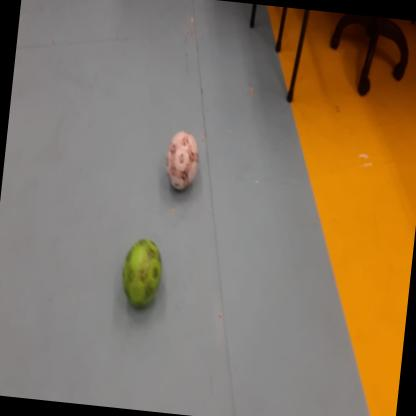ball: (119, 236, 164, 310), (162, 129, 200, 194)
